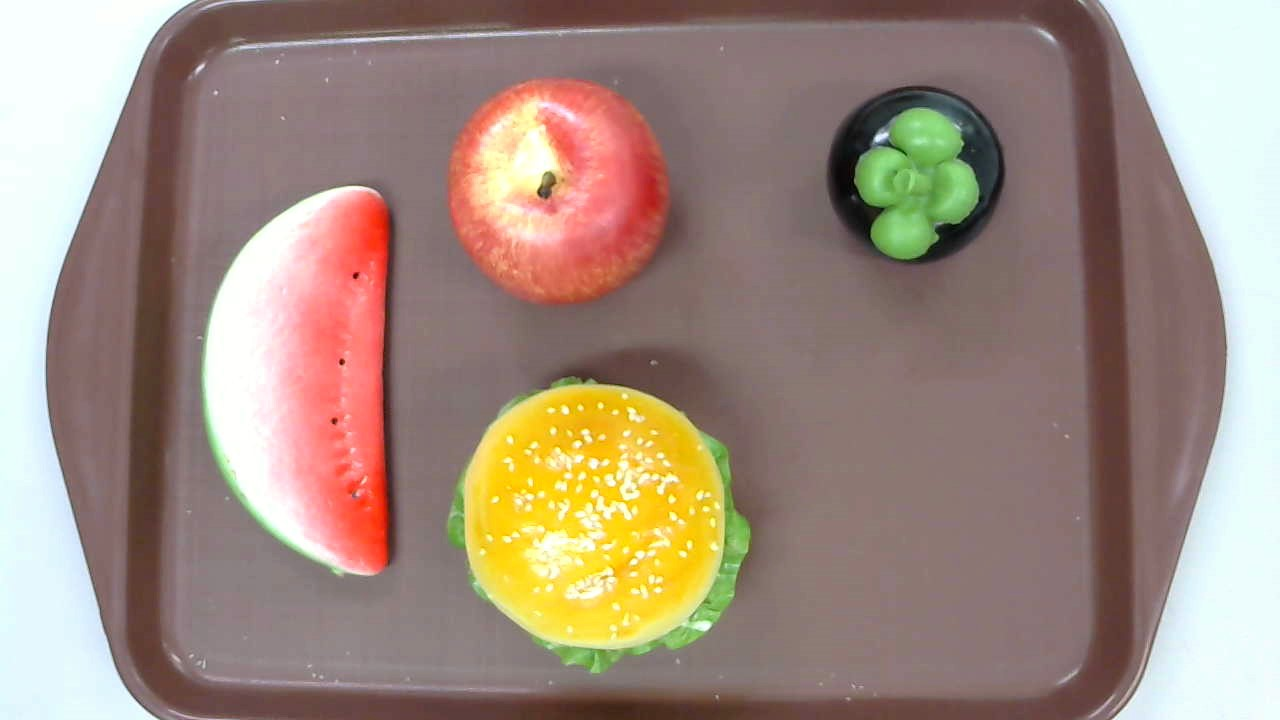hamburger: (446, 377, 753, 676)
mangosteen: (828, 85, 1005, 264)
red apple: (448, 74, 672, 307)
watermelon: (198, 184, 392, 576)
